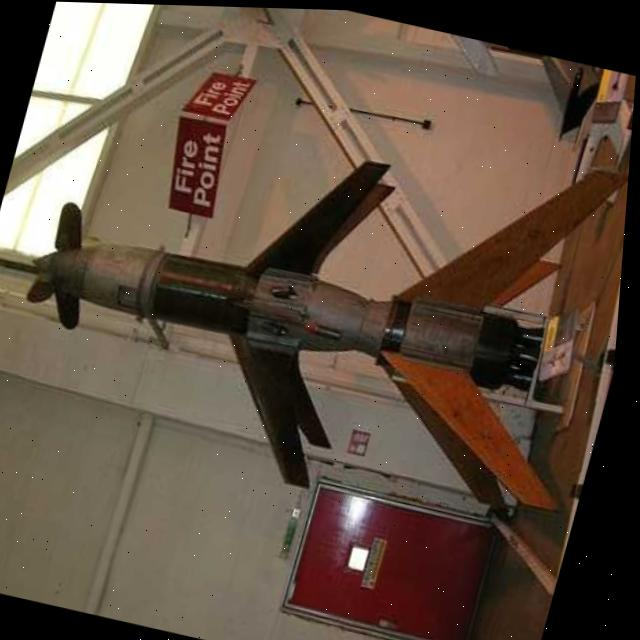missile: (0, 37, 638, 534)
